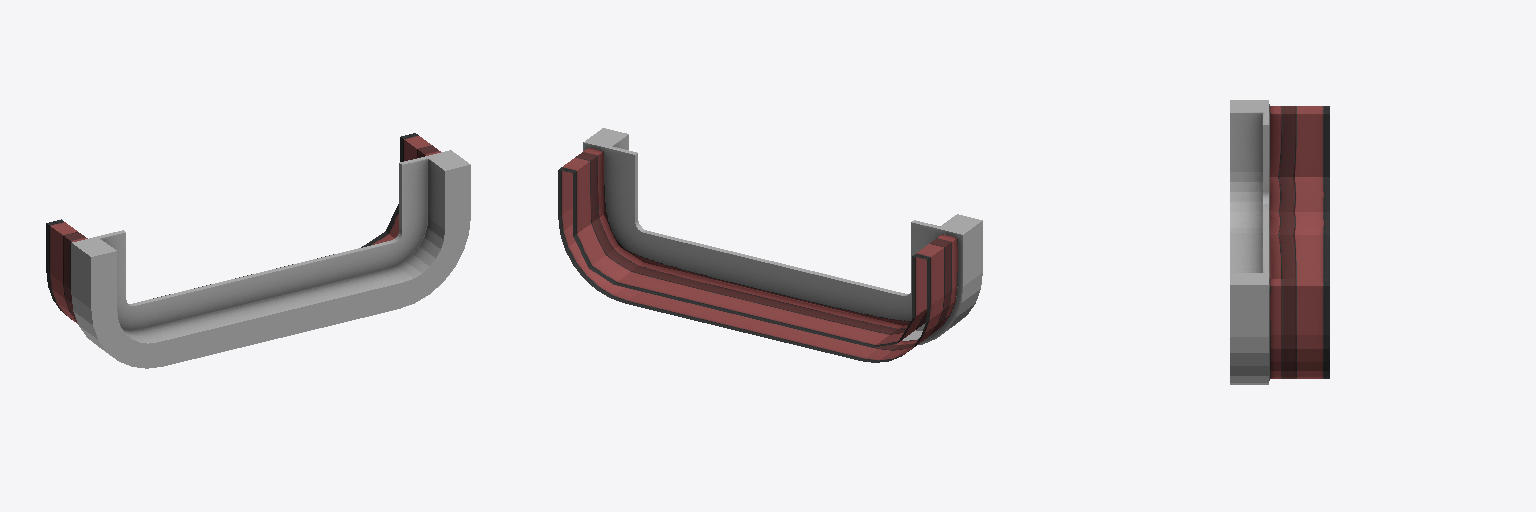
The picture shows the model from 3 angles: view 1: azimuth 30°, elevation 25°; view 2: azimuth 150°, elevation 25°; view 3: azimuth 270°, elevation 25°; orthographic projection.
Parts seen in each view (by area): view 1: NurseDesk; view 2: NurseDesk; view 3: NurseDesk.
Part boxes in pixels (bbox=[...]): NurseDesk: bbox=[46, 133, 470, 368]; NurseDesk: bbox=[558, 128, 982, 362]; NurseDesk: bbox=[1230, 100, 1329, 384].
Size of the model in its own units: 4819 by 1540 by 1104.
1 materials, 1 textured.